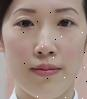without_mask: (1, 2, 87, 99)
